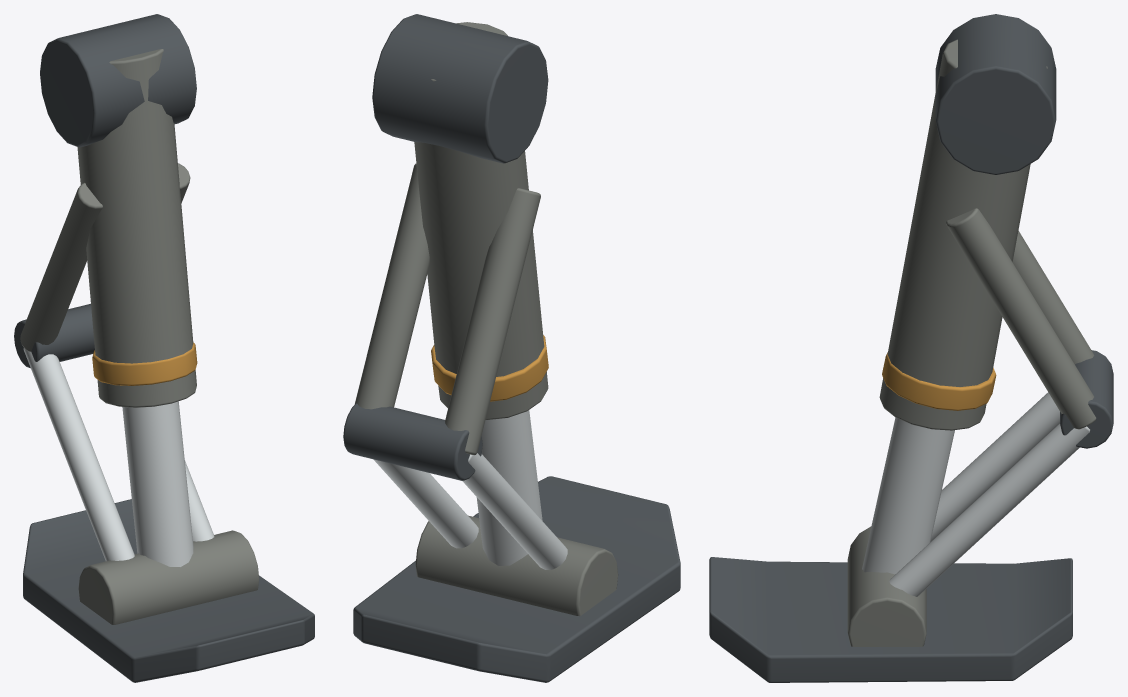
Rendered from landing-strut.glb.
3 views of the same model, side by side, from view 1: azimuth 30°, elevation 25°; view 2: azimuth 150°, elevation 25°; view 3: azimuth 270°, elevation 25° (orthographic). The views are drawn at different scales.
Parts seen in each view (by area): view 1: Landing shoe; view 2: Landing shoe; view 3: Landing shoe.
Boxes of the visible parts, x1,y1,x2,y2 form: Landing shoe: [14, 14, 314, 682]; Landing shoe: [343, 14, 680, 682]; Landing shoe: [709, 14, 1113, 682].
Bounding box in the file's own units: 0.2299 × 0.666 × 0.409.
